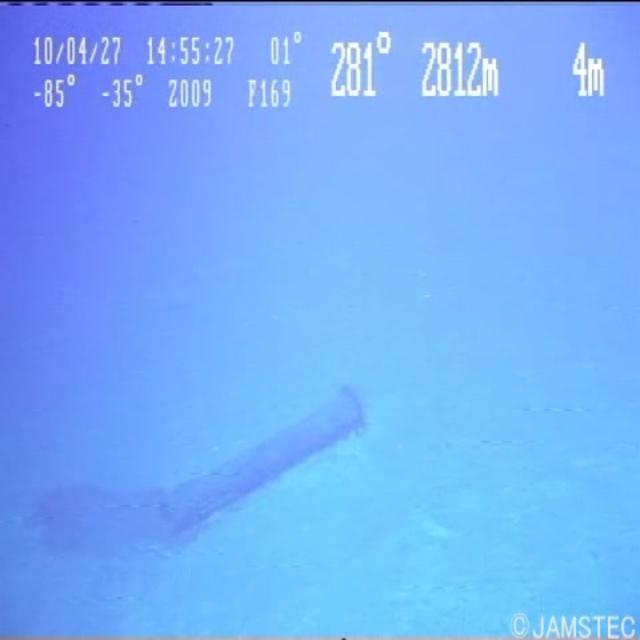Metal: (123, 381, 424, 542)
